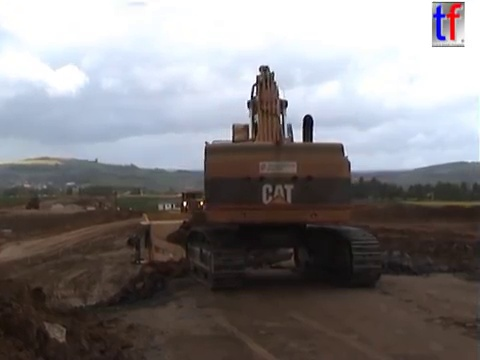excavator: (180, 60, 389, 290), (83, 199, 112, 215)
truck: (125, 211, 301, 296), (178, 189, 207, 215), (24, 195, 43, 212)
